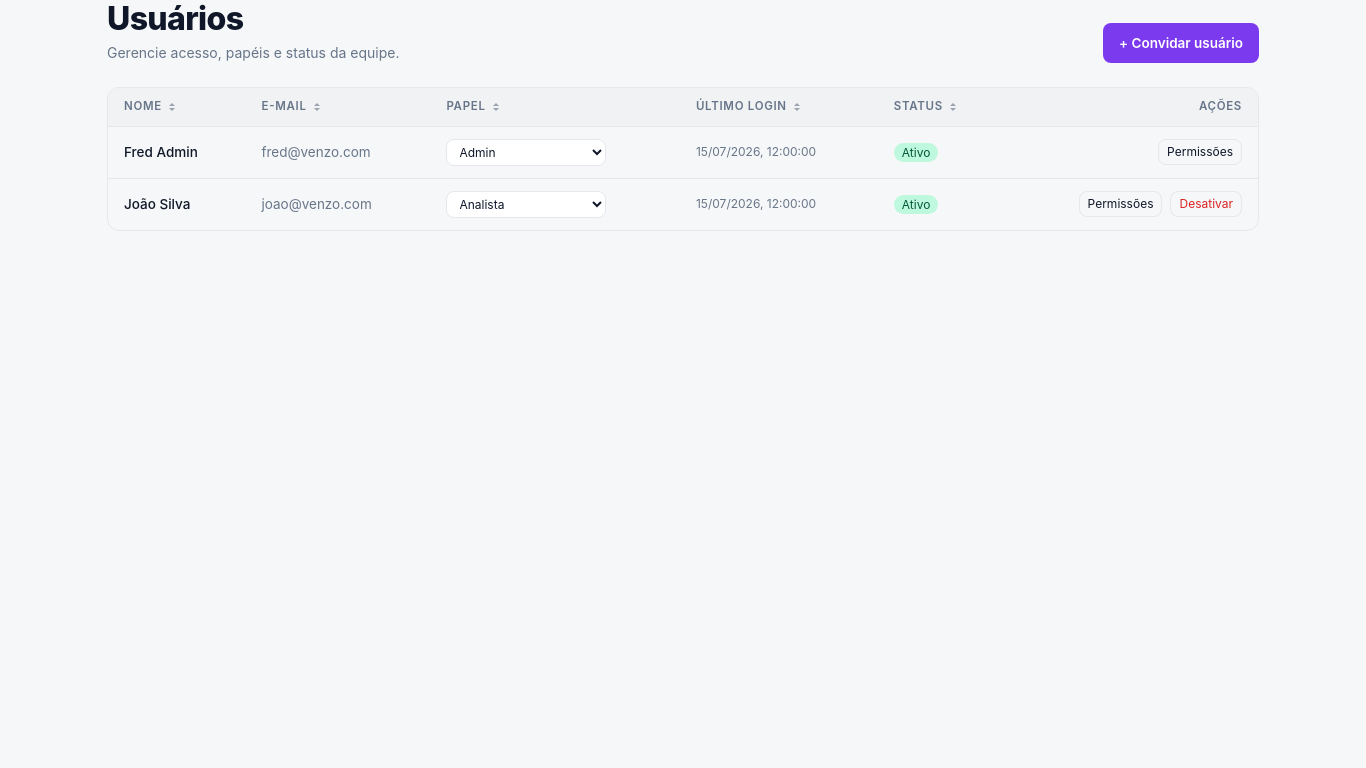
it: /admin/users (P-86 wiring) › click no botão "Desativar" abre AlertDialog do design system
Click the button with aria-label "Desativar João Silva". click: [1206, 204]
box: left=1170, top=191, right=1242, bottom=217
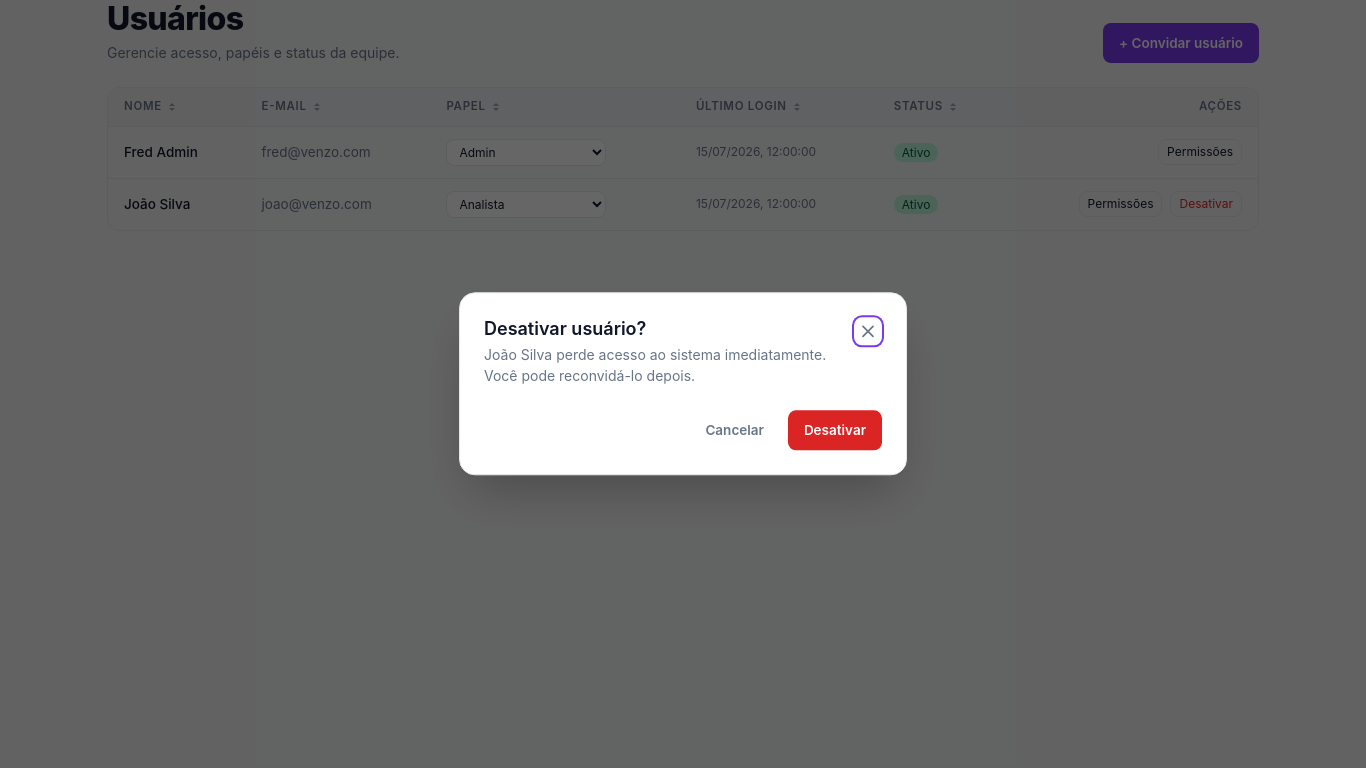
expect the dialog "Desativar usuário?" is shown: met, box left=459, top=292, right=907, bottom=476
expect the text "João Silva perde acesso" is shown: met, box left=484, top=347, right=826, bottom=385
expect the button "Desativar" is shown: met, box left=788, top=411, right=882, bottom=451
